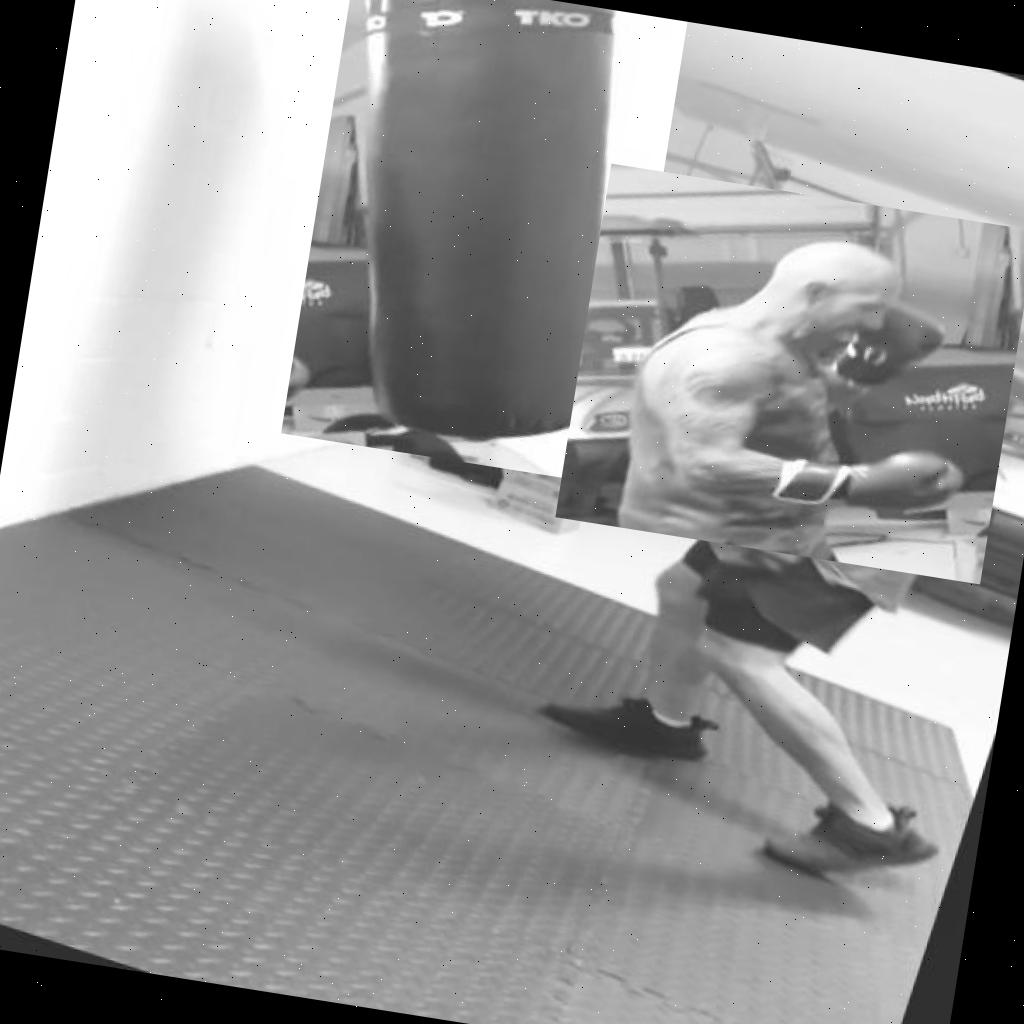bag: (280, 0, 687, 485)
uppercut: (555, 163, 1024, 584)
